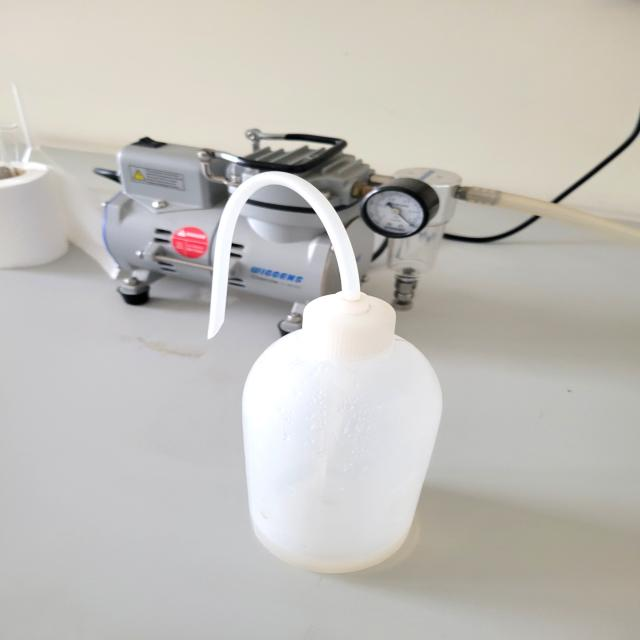Wash_Bottle: (184, 167, 466, 586)
